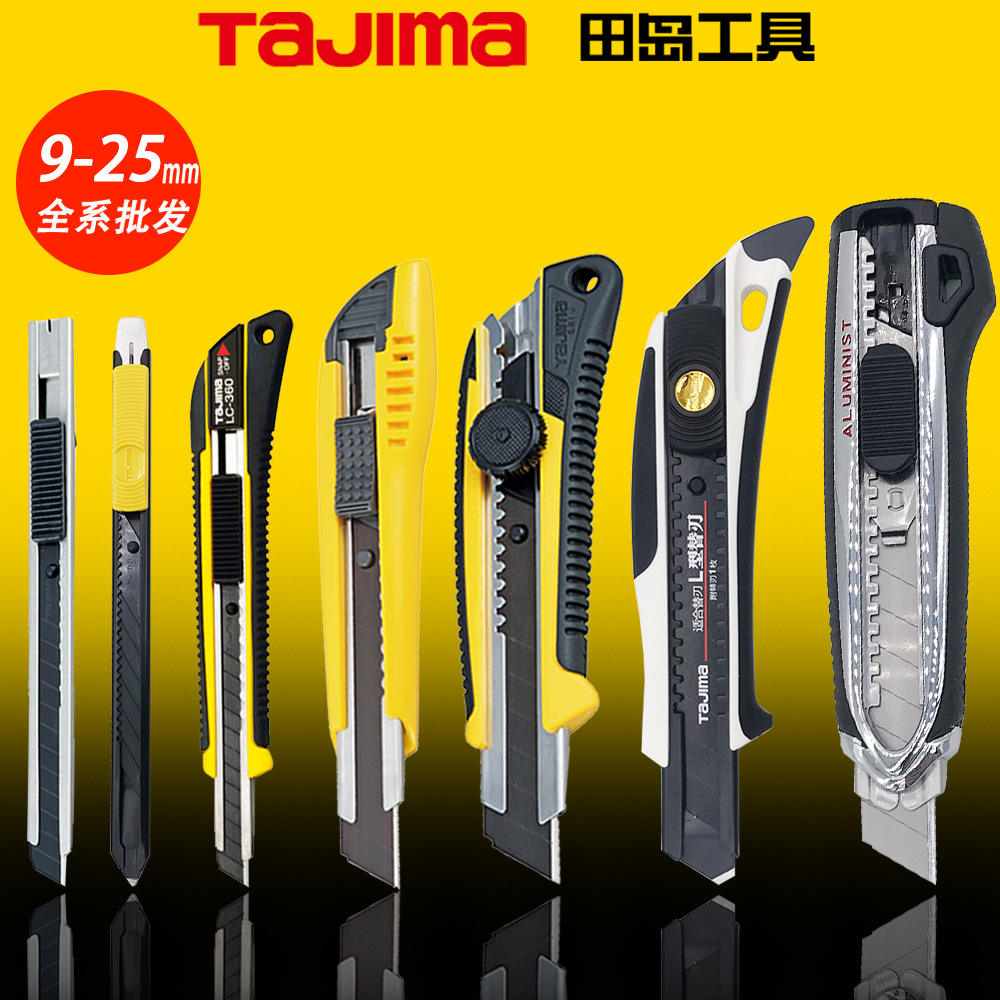cutter: (629, 211, 816, 891), (823, 197, 1000, 886), (450, 252, 625, 884), (322, 262, 439, 894), (187, 310, 295, 894), (22, 321, 79, 888), (104, 318, 156, 892)
